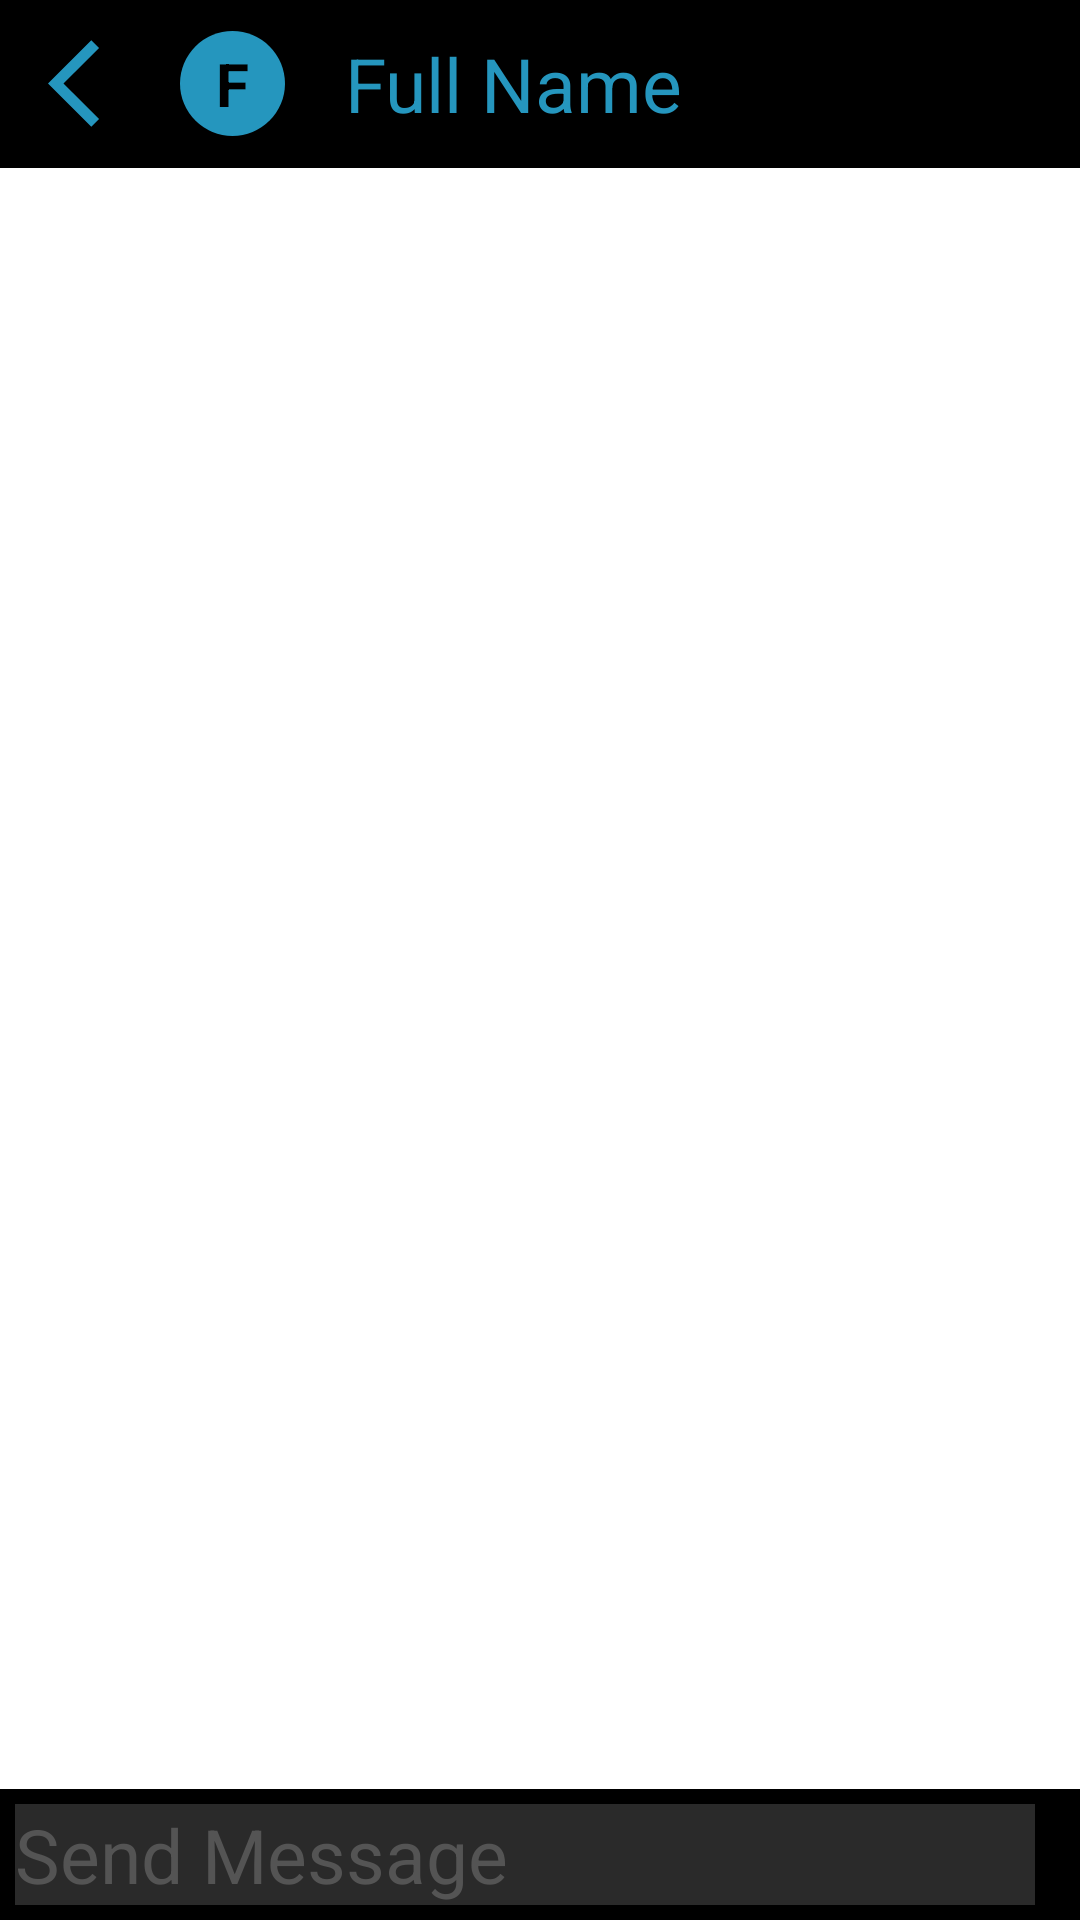

Icon click points for this 1080px×1920px phone screenshot, format (x=x, y=y):
back: (x=73, y=83)
